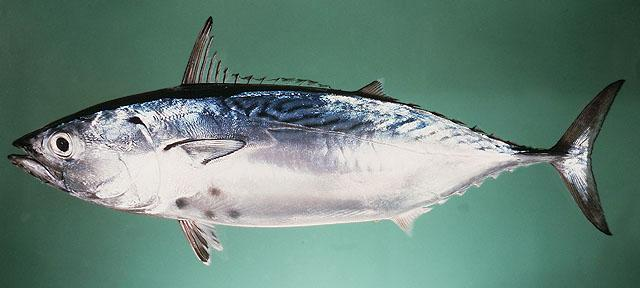Mulut: (2, 126, 48, 188)
Sirip Anal: (383, 194, 439, 244)
Sirip Dada: (170, 128, 256, 176)
Sirip Ekor: (545, 69, 631, 251)
Sirip Perut: (173, 212, 231, 268)
Sirip Punggung: (179, 13, 395, 109)
